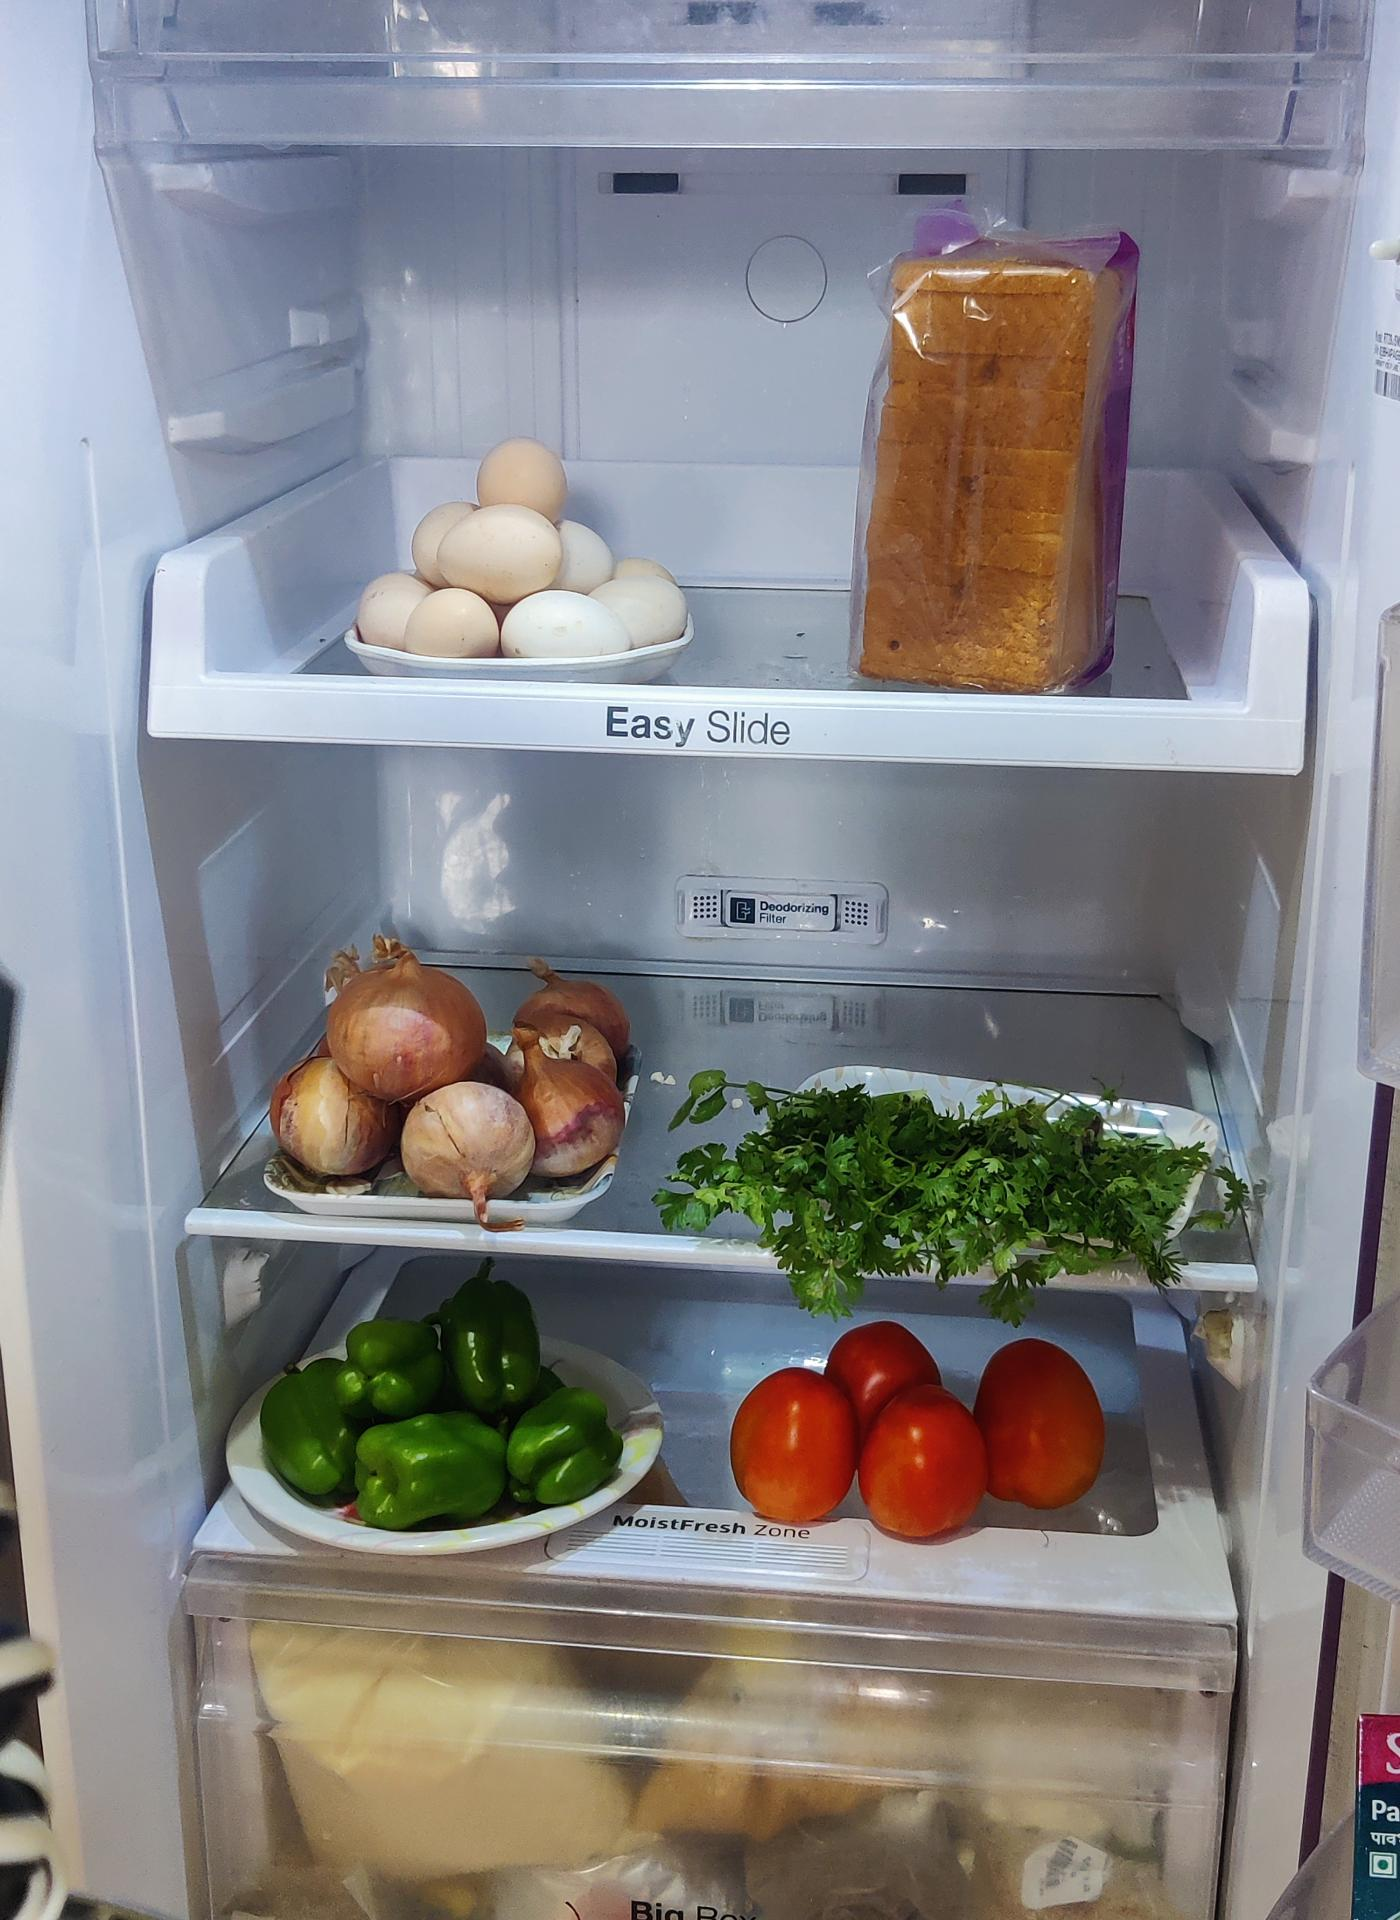bread: (847, 216, 1150, 690)
capsicum: (262, 1283, 643, 1532)
coriander: (687, 1088, 1203, 1313)
egg: (346, 429, 687, 663)
onion: (273, 929, 640, 1199)
tomato: (731, 1327, 1112, 1544)
